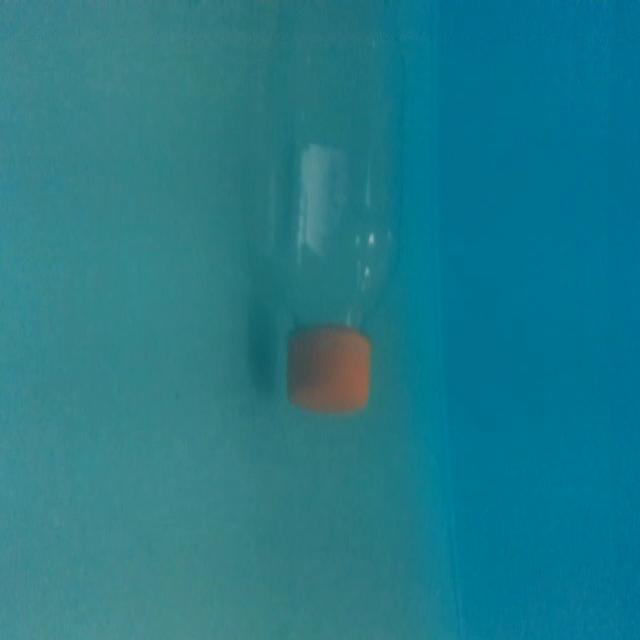plastic bottle: (257, 0, 429, 429)
